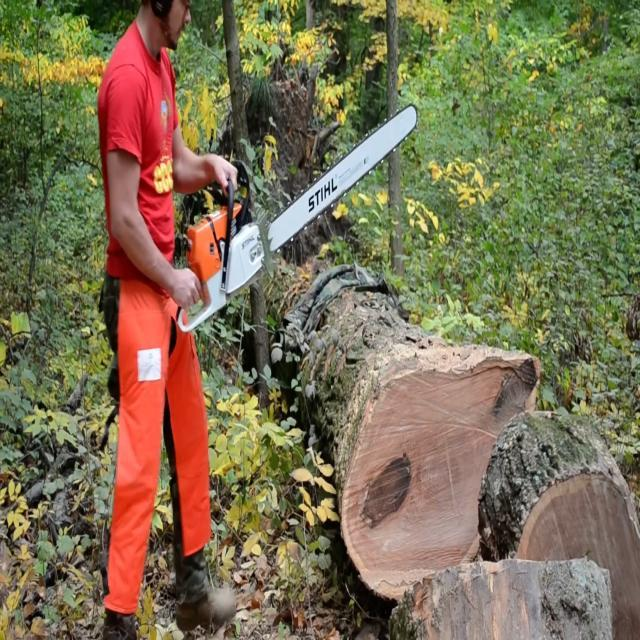Chainsaw: (167, 77, 430, 353)
